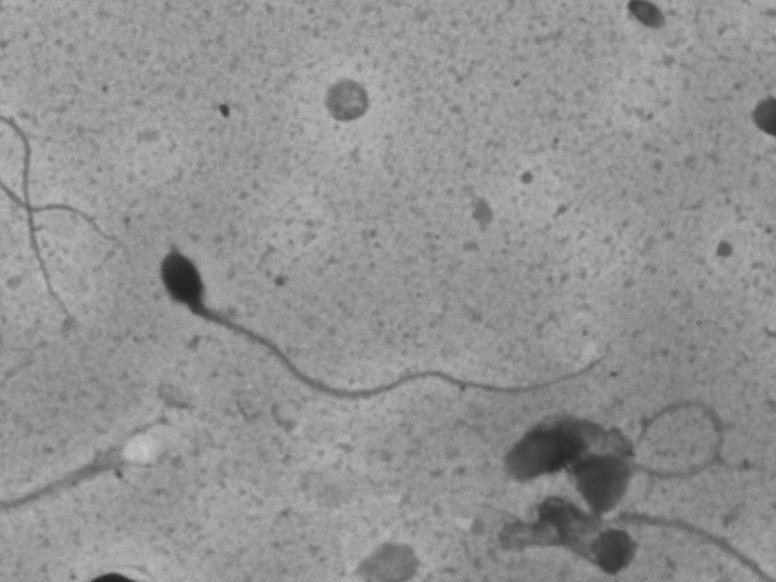Normal: (148, 240, 619, 405)
